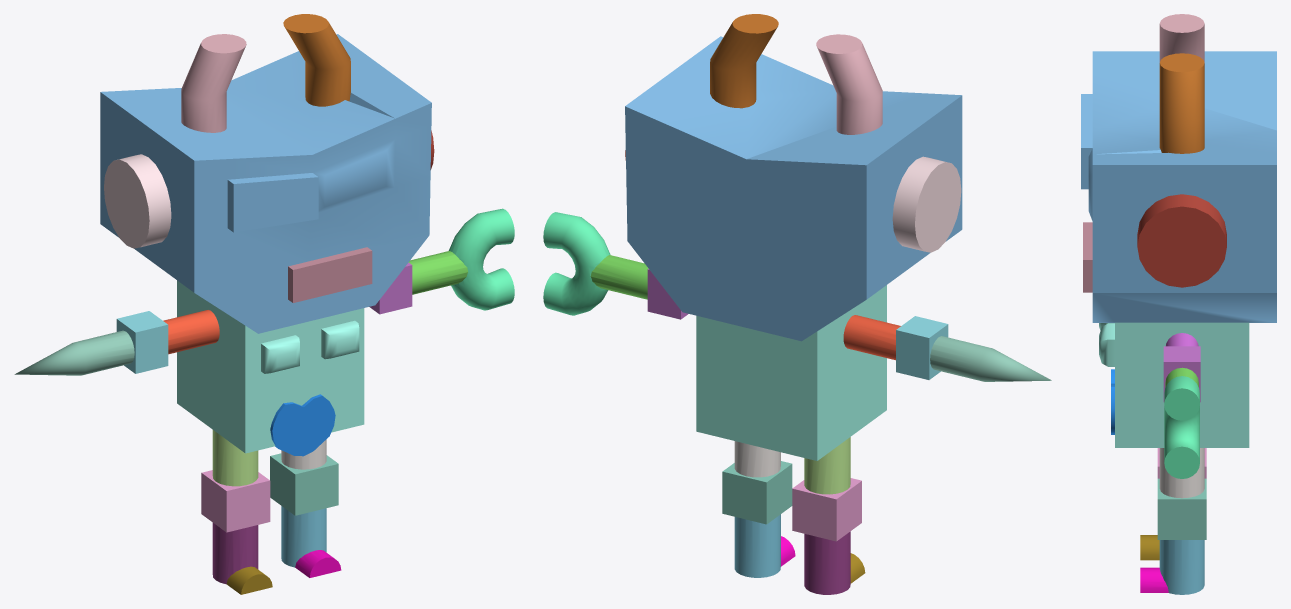
3 views of the same model, side by side, from view 1: azimuth 30°, elevation 25°; view 2: azimuth 150°, elevation 25°; view 3: azimuth 270°, elevation 25° (orthographic). The views are drawn at different scales.
Parts seen in each view (by area): view 1: split_parent_22, Object_43, Object_73.002, Object_59, Object_35, Object_33, Object_31, Object_51, Object_67, Object_71, Object_41, Object_63 (+9 smaller); view 2: split_parent_22, Object_43, Object_73.002, Object_59, Object_35, Object_33, Object_67, Object_51, Object_71, Object_49, Object_37, Object_63 (+5 smaller); view 3: split_parent_22, Object_43, Object_73, Object_33, Object_59, Object_37, Object_67, Object_35, Object_69, Object_53, Object_31, Object_39 (+3 smaller).
Part boxes in pixels (box(x1,y1,x2,y2)): split_parent_22: box(100, 34, 431, 333); Object_43: box(177, 280, 364, 453); Object_73.002: box(104, 154, 171, 248); Object_59: box(448, 208, 514, 310); Object_35: box(181, 34, 246, 132); Object_33: box(283, 14, 350, 106); Object_31: box(288, 247, 372, 302); Object_51: box(201, 470, 270, 532); Object_67: box(270, 453, 338, 515); Object_71: box(14, 330, 134, 375); Object_41: box(270, 394, 335, 456); Object_63: box(116, 311, 168, 373); split_parent_22: box(625, 36, 962, 341); Object_43: box(696, 285, 886, 460); Object_73.002: box(892, 156, 961, 252); Object_59: box(543, 212, 610, 315); Object_35: box(816, 34, 882, 134); Object_33: box(710, 14, 778, 108); Object_67: box(722, 461, 792, 524); Object_51: box(792, 478, 861, 541); Object_71: box(930, 336, 1051, 381); Object_49: box(804, 531, 850, 594); Object_37: box(734, 514, 780, 577); Object_63: box(896, 316, 948, 379); split_parent_22: box(1081, 51, 1276, 322); Object_43: box(1099, 322, 1249, 447); Object_73: box(1137, 194, 1226, 287); Object_33: box(1159, 53, 1204, 153); Object_59: box(1164, 376, 1199, 478); Object_37: box(1159, 540, 1204, 594); Object_67: box(1157, 478, 1206, 539); Object_35: box(1159, 14, 1204, 62); Object_69: box(1159, 448, 1204, 498); Object_53: box(1163, 346, 1200, 402); Object_31: box(1083, 222, 1092, 292); Object_39: box(1140, 567, 1168, 592).
Bounding box in the file's own units: 0.962 × 1 × 0.3388.
